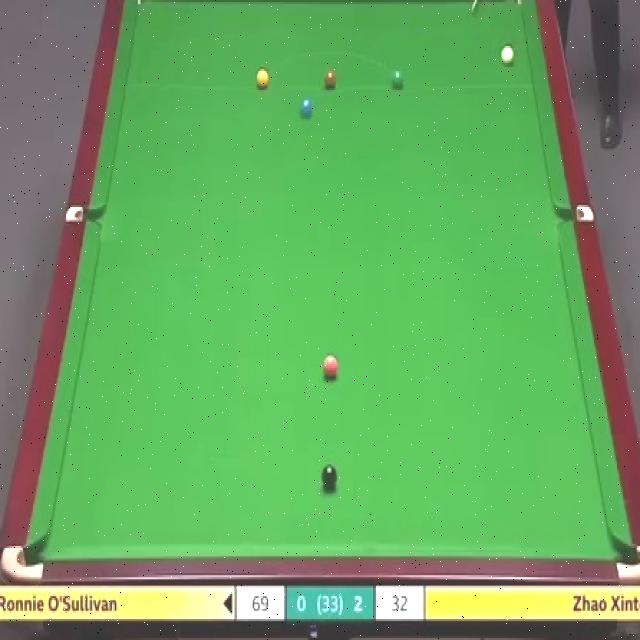black-ball: (320, 463, 338, 491)
blue-ball: (300, 96, 314, 118)
brown-ball: (322, 67, 338, 90)
green-ball: (389, 69, 404, 90)
pink-ball: (321, 354, 338, 378)
white-ball: (501, 43, 515, 66)
yellow-ball: (256, 66, 270, 88)
